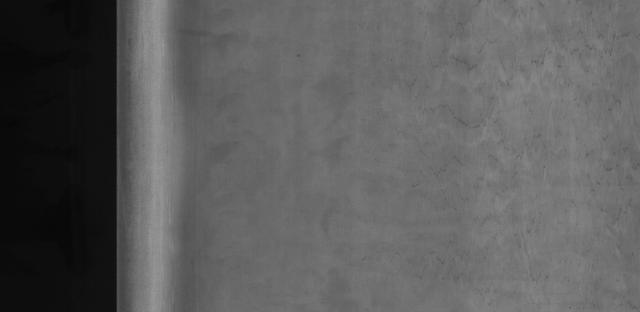silk_spot: (430, 43, 566, 149), (458, 176, 537, 236)
